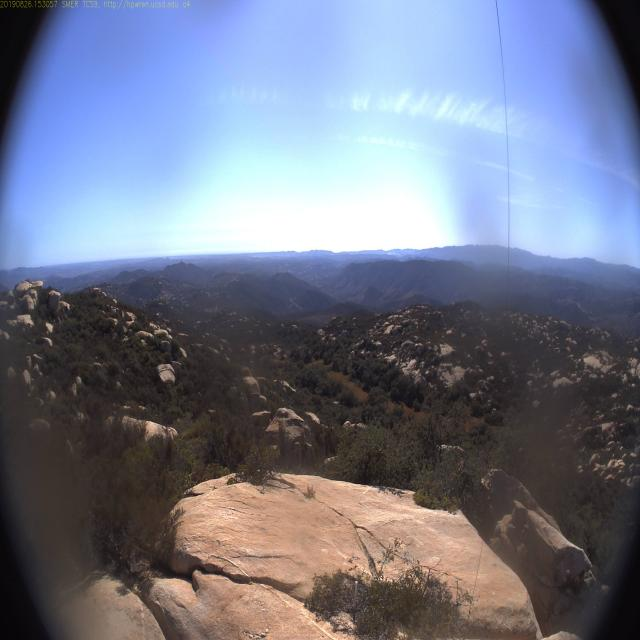smoke: (386, 249, 394, 258)
